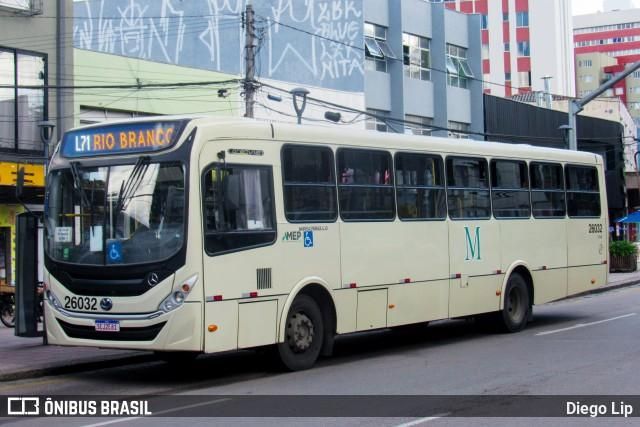RIO BRANCO: (90, 125, 176, 152)
